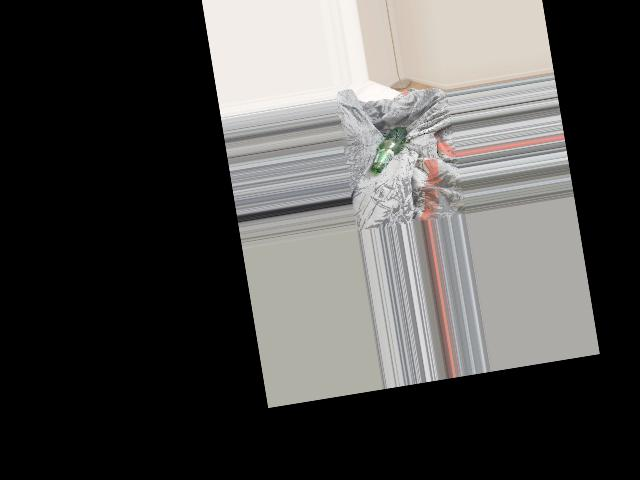beer: (365, 126, 412, 175)
